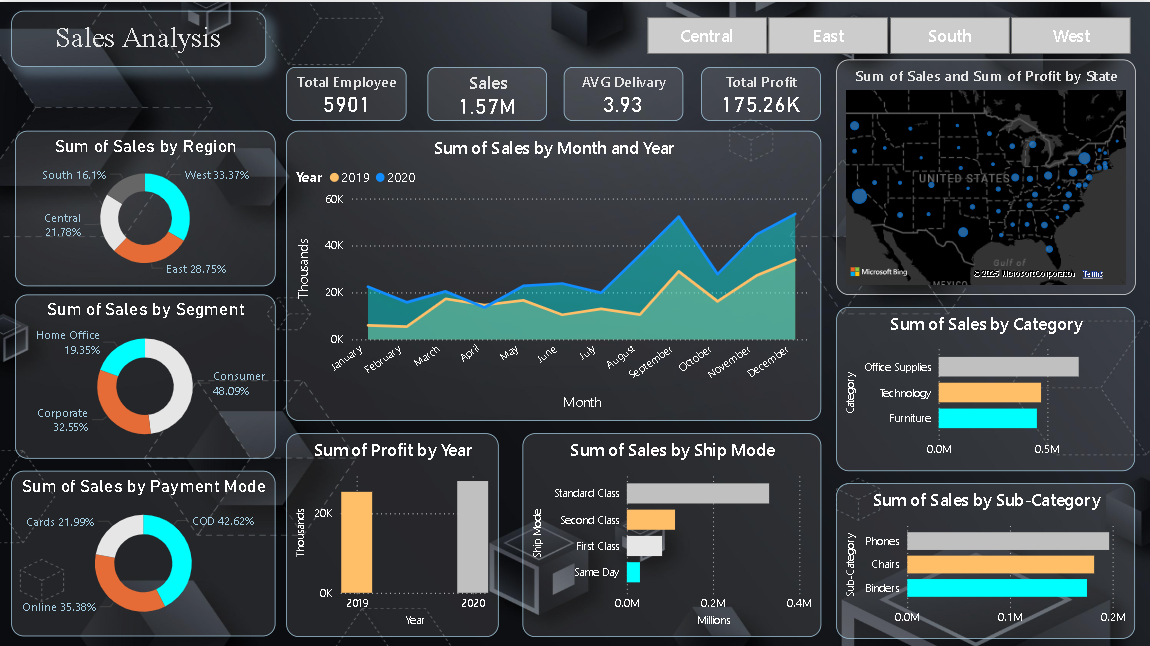

This screenshot's page, from the dashboard's own definition file:
{"tool":"powerbi","page":{"name":"Page 1","canvas":[1280,720],"ordinal":0},"visuals":[{"type":"barChart","fields":{"Category":["SuperStore_Sales_Dataset.Category"],"Y":["Sum(SuperStore_Sales_Dataset.Sales)"]},"box":[929,338.9,332.1,182.5],"z":0},{"type":"barChart","fields":{"Category":["SuperStore_Sales_Dataset.Ship Mode"],"Y":["Sum(SuperStore_Sales_Dataset.Sales)"]},"box":[580.5,479.3,332.2,226.4],"z":1000},{"type":"barChart","fields":{"Category":["SuperStore_Sales_Dataset.Sub-Category"],"Y":["Sum(SuperStore_Sales_Dataset.Sales)"]},"box":[929,535.2,332.1,172.9],"z":2000},{"type":"areaChart","fields":{"Category":["SuperStore_Sales_Dataset.Order Date.Variation.Date Hierarchy.Month","SuperStore_Sales_Dataset.Order Date.Variation.Date Hierarchy.Day"],"Y":["Sum(SuperStore_Sales_Dataset.Sales)"],"Series":["SuperStore_Sales_Dataset.Order Date.Variation.Date Hierarchy.Year"]},"box":[318.4,142.7,594.2,322.5],"z":3000},{"type":"lineClusteredColumnComboChart","fields":{"Y":["Sum(SuperStore_Sales_Dataset.Profit)"],"Category":["SuperStore_Sales_Dataset.Order Date.Variation.Date Hierarchy.Year"]},"box":[318.4,479.3,235.6,226.4],"z":4000},{"type":"map","fields":{"Category":["SuperStore_Sales_Dataset.State"],"Size":["Sum(SuperStore_Sales_Dataset.Sales)"]},"box":[928.9,63.9,332.5,261.4],"z":5000},{"type":"donutChart","fields":{"Category":["SuperStore_Sales_Dataset.Payment Mode"],"Y":["Sum(SuperStore_Sales_Dataset.Sales)"]},"box":[12.3,521.4,293.7,183.9],"z":6000},{"type":"donutChart","fields":{"Category":["SuperStore_Sales_Dataset.Segment"],"Y":["Sum(SuperStore_Sales_Dataset.Sales)"]},"box":[16.5,325.2,289.5,182.5],"z":7000},{"type":"donutChart","fields":{"Y":["Sum(SuperStore_Sales_Dataset.Sales)"],"Category":["SuperStore_Sales_Dataset.Region"]},"box":[16.5,142.7,289.5,172.9],"z":8000},{"type":"card","title":"Total Employee","fields":{"Values":["CountNonNull(SuperStore_Sales_Dataset.Customer ID)"]},"box":[318.1,72.3,133.7,60.2],"z":9000},{"type":"card","title":"Sales","fields":{"Values":["Sum(SuperStore_Sales_Dataset.Sales)"]},"box":[474.7,72.3,132.5,60.2],"z":10000},{"type":"card","title":"AVG Delivary","fields":{"Values":["Avg(SuperStore_Sales_Dataset.AVG_Delivary)"]},"box":[626.5,72.3,132.5,60.2],"z":11000},{"type":"card","title":"Total Profit","fields":{"Values":["Sum(SuperStore_Sales_Dataset.Profit)"]},"box":[779.5,72.3,132.5,60.2],"z":12000},{"type":"slicer","fields":{"Values":["SuperStore_Sales_Dataset.Region"]},"box":[693,9.6,587.3,54.9],"z":15000},{"type":"textbox","box":[12,9.6,283.1,62.7],"z":15001}]}

Visuals, with their boxes in screenshot pixels (x1, y1, x2, y2), scaled from the page's 1280x720 canvas onto the 1150x646 screenshot:
barChart - SuperStore_Sales_Dataset.Category x Sum(SuperStore_Sales_Dataset.Sales): box=[835, 304, 1133, 468]
barChart - SuperStore_Sales_Dataset.Ship Mode x Sum(SuperStore_Sales_Dataset.Sales): box=[522, 430, 820, 633]
barChart - SuperStore_Sales_Dataset.Sub-Category x Sum(SuperStore_Sales_Dataset.Sales): box=[835, 480, 1133, 635]
areaChart - SuperStore_Sales_Dataset.Order Date.Variation.Date Hierarchy.Month x SuperStore_Sales_Dataset.Order Date.Variation.Date Hierarchy.Day: box=[286, 128, 820, 417]
lineClusteredColumnComboChart - Sum(SuperStore_Sales_Dataset.Profit) x SuperStore_Sales_Dataset.Order Date.Variation.Date Hierarchy.Year: box=[286, 430, 498, 633]
map - SuperStore_Sales_Dataset.State x Sum(SuperStore_Sales_Dataset.Sales): box=[835, 57, 1133, 292]
donutChart - SuperStore_Sales_Dataset.Payment Mode x Sum(SuperStore_Sales_Dataset.Sales): box=[11, 468, 275, 633]
donutChart - SuperStore_Sales_Dataset.Segment x Sum(SuperStore_Sales_Dataset.Sales): box=[15, 292, 275, 456]
donutChart - Sum(SuperStore_Sales_Dataset.Sales) x SuperStore_Sales_Dataset.Region: box=[15, 128, 275, 283]
"Total Employee" card: box=[286, 65, 406, 119]
"Sales" card: box=[426, 65, 546, 119]
"AVG Delivary" card: box=[563, 65, 682, 119]
"Total Profit" card: box=[700, 65, 819, 119]
slicer - SuperStore_Sales_Dataset.Region: box=[623, 9, 1149, 58]
textbox: box=[11, 9, 265, 65]
